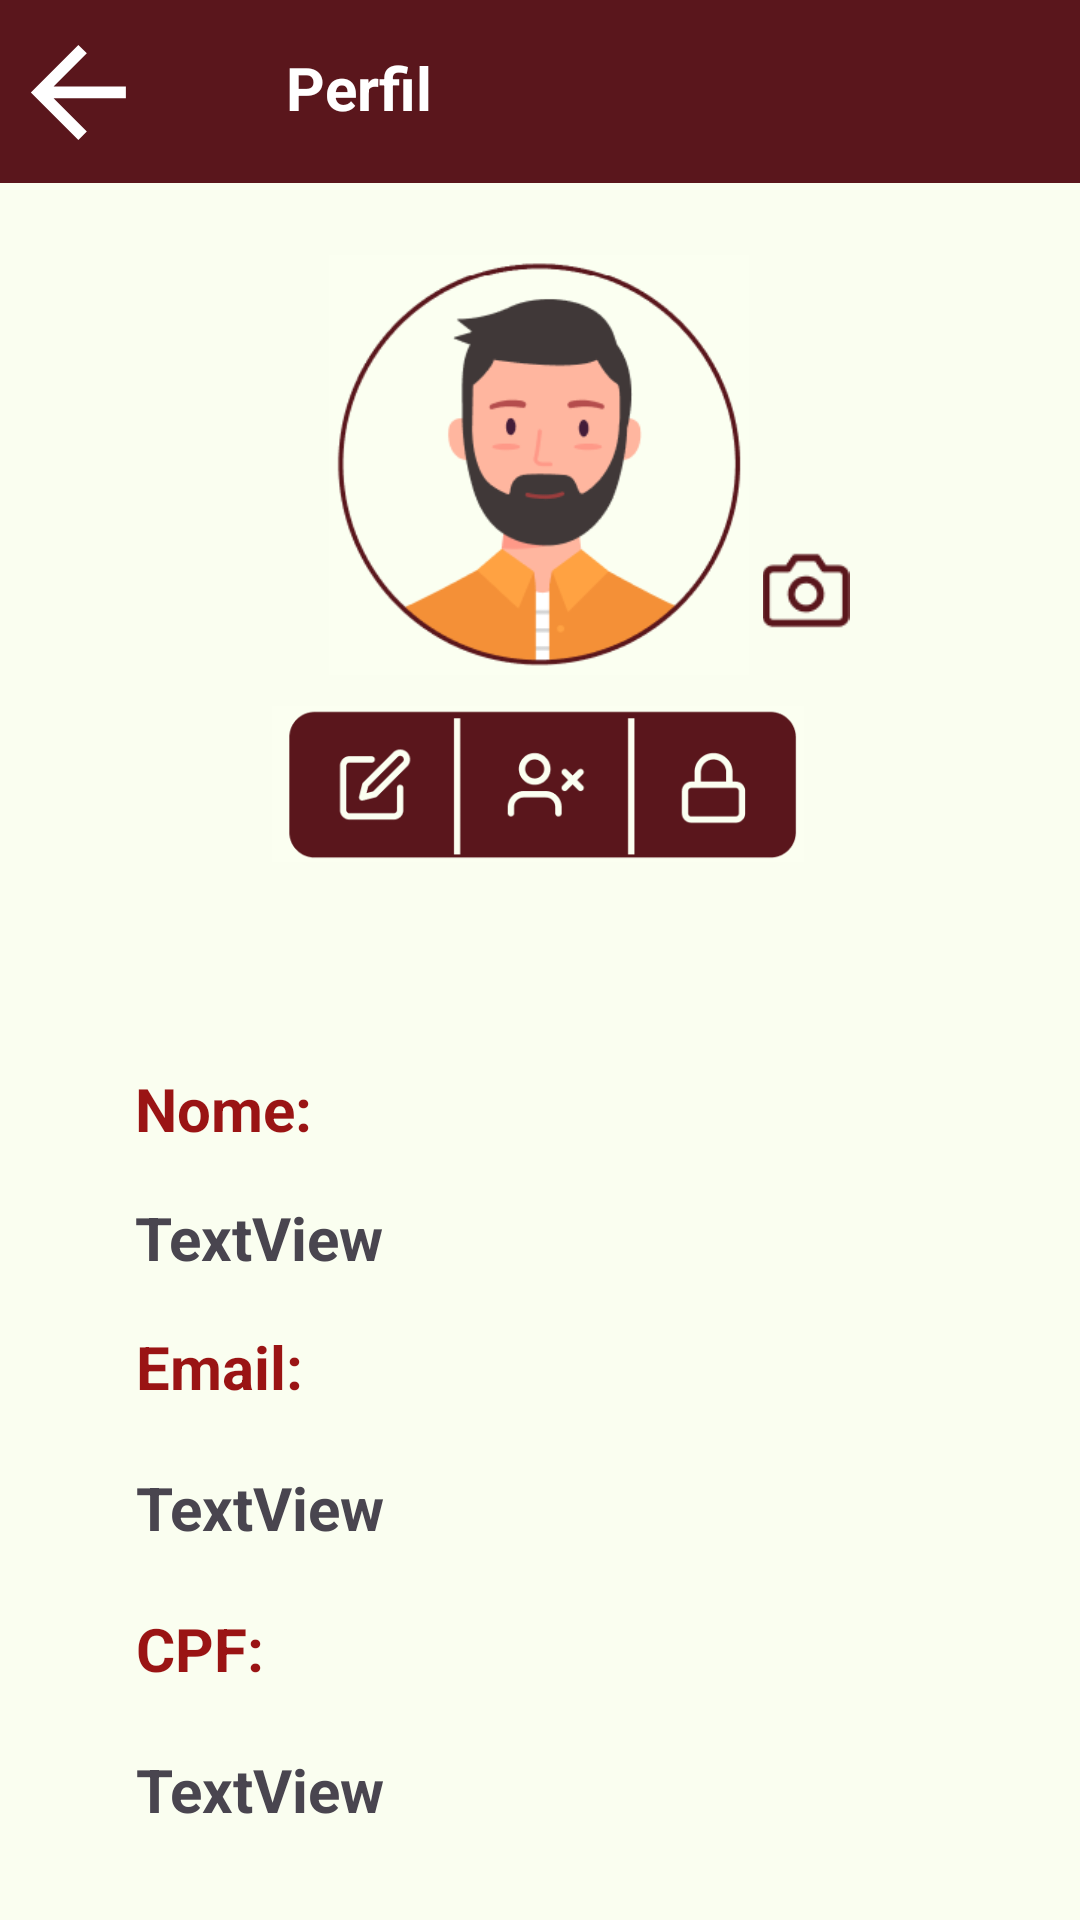

Icons on this 1080w x 1920h Android screen, each with the point to tap as [x,y]:
back: [78,92]
camera: [806,590]
